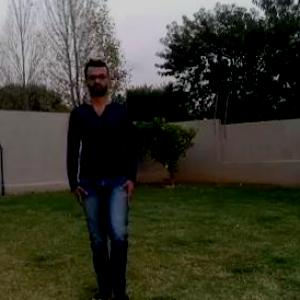follow: (80, 78, 134, 290)
